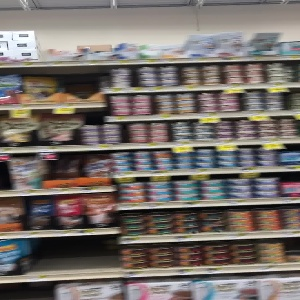void: (27, 233, 119, 277)
